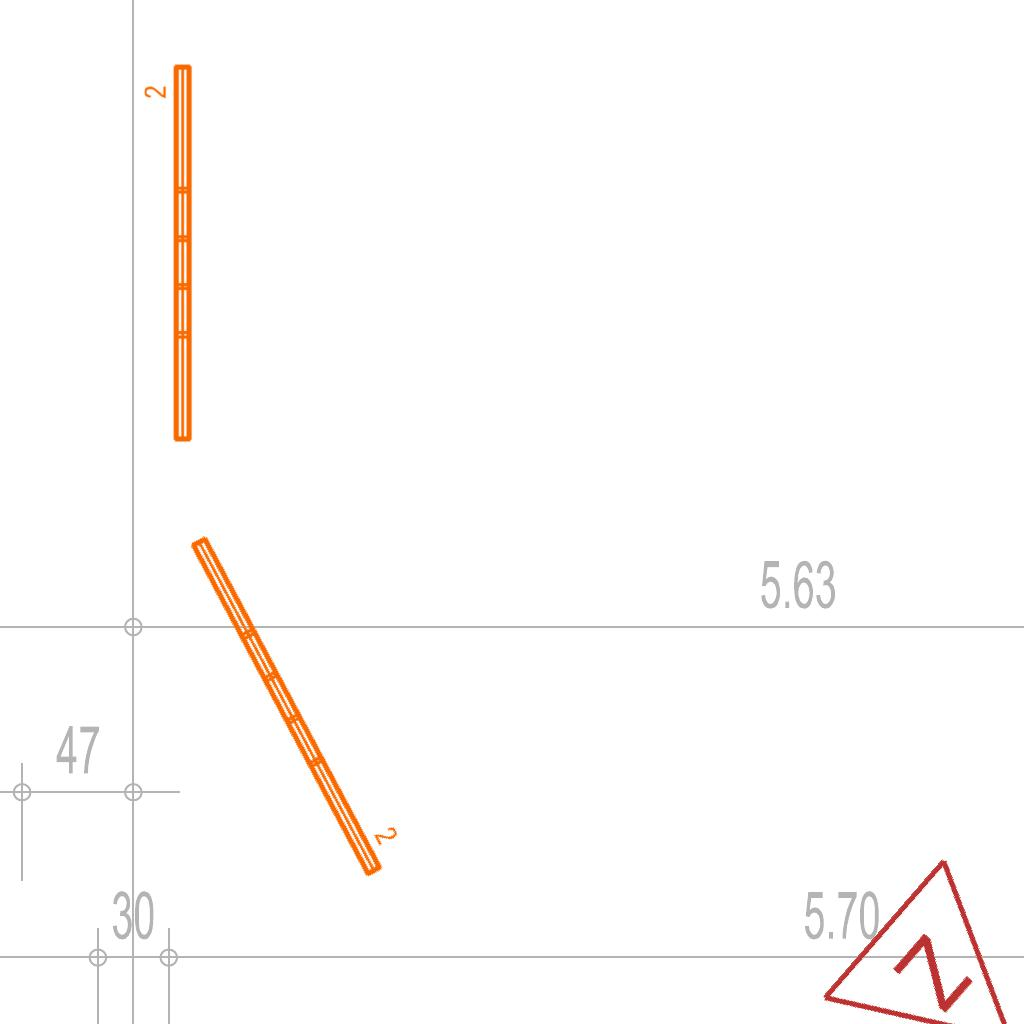Ambulanz_Pendelleuchte_LED: (181, 516, 414, 884), (142, 60, 198, 447)
Zimmersignalleuchte: (808, 842, 1024, 1024)
